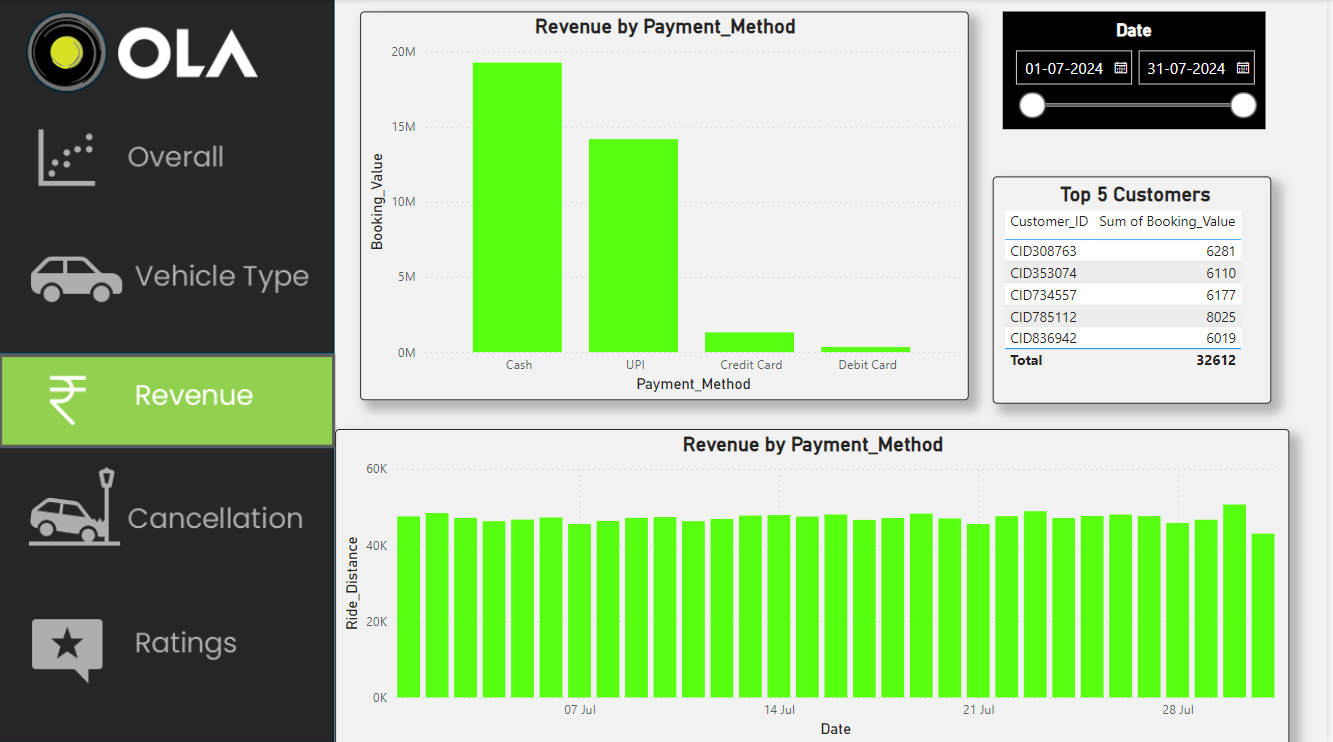

This screenshot's page, from the dashboard's own definition file:
{"tool":"powerbi","page":{"name":"Revenue","canvas":[1280,720],"ordinal":2},"visuals":[{"type":"actionButton","box":[0,342.6,324.5,90.5],"z":0},{"type":"columnChart","title":"Revenue by Payment_Method","fields":{"Y":["Sum(July.Booking_Value)"],"Category":["July.Payment_Method"]},"box":[348.8,12.5,587.3,375.5],"z":1000},{"type":"columnChart","title":"Revenue by Payment_Method","fields":{"Y":["Sum(July.Ride_Distance)"],"Category":["July.Date"]},"box":[324.6,415.5,920.5,305.9],"z":2000},{"type":"slicer","title":"Date","fields":{"Values":["July.Date"]},"box":[968.8,12.1,253.4,113.4],"z":3000},{"type":"tableEx","title":"Top 5 Customers","fields":{"Values":["July.Customer_ID","Sum(July.Booking_Value)"]},"box":[959.3,170.9,268.7,218.9],"z":4000}]}

Visuals, with their boxes in screenshot pixels (x1, y1, x2, y2), scaled from the page's 1280x720 canvas onto the 1333x742 screenshot:
actionButton: region(0, 353, 338, 446)
"Revenue by Payment_Method" columnChart: region(363, 13, 975, 400)
"Revenue by Payment_Method" columnChart: region(338, 428, 1297, 741)
"Date" slicer: region(1009, 12, 1273, 129)
"Top 5 Customers" tableEx: region(999, 176, 1279, 402)
